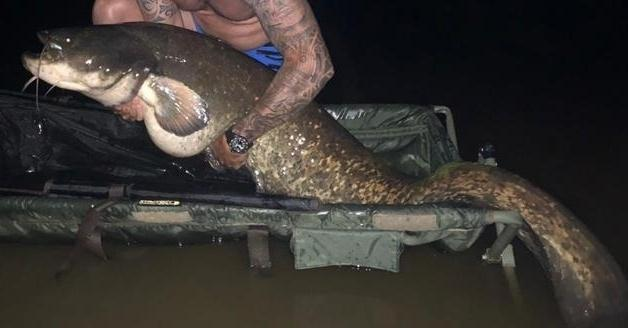Catfish: (24, 19, 621, 325)
